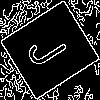J: (25, 25, 76, 71)
